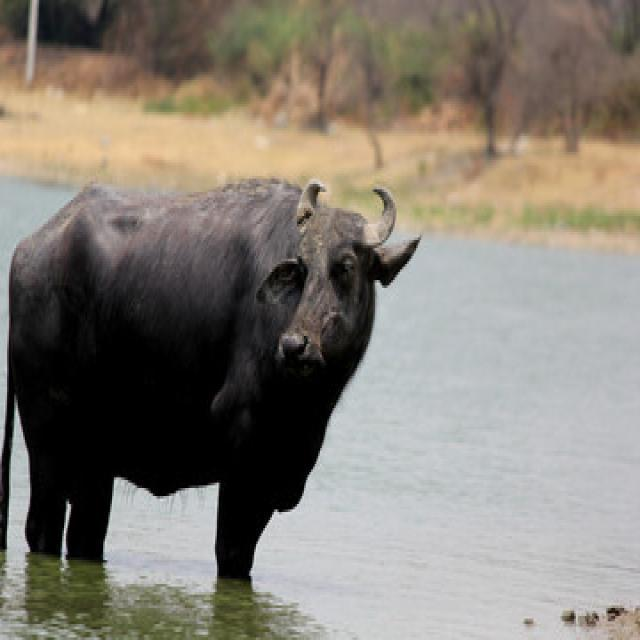Buffalo: (0, 168, 421, 586)
